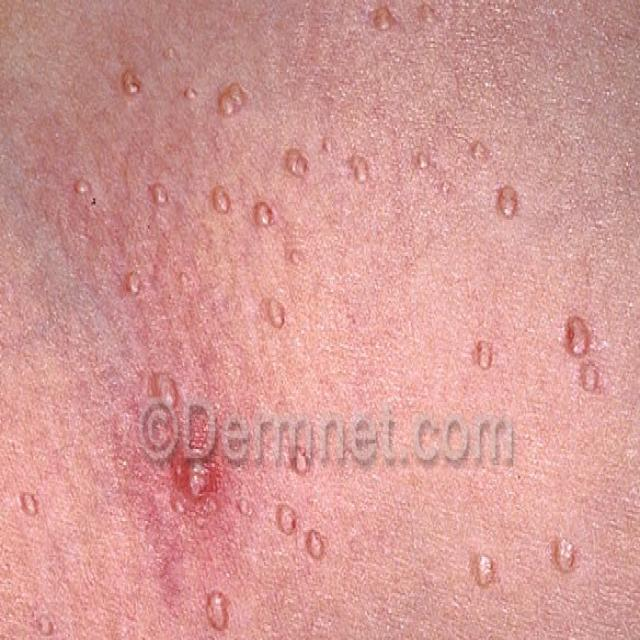Viral Infections: (104, 65, 612, 399), (173, 456, 354, 640), (463, 474, 640, 640), (31, 598, 144, 640), (352, 0, 422, 61), (9, 478, 48, 523)
